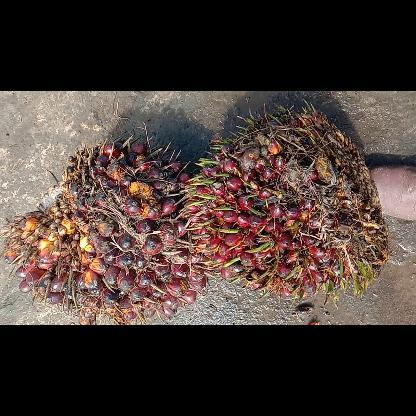Kurang masak: (178, 99, 388, 303)
TBS masak: (0, 134, 207, 324)
